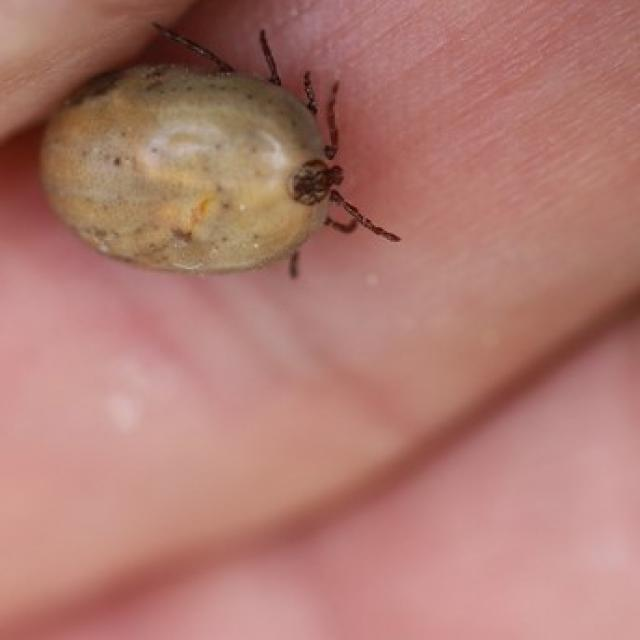Dermacentor Reticulatus-F-Fed: (39, 24, 402, 282)
